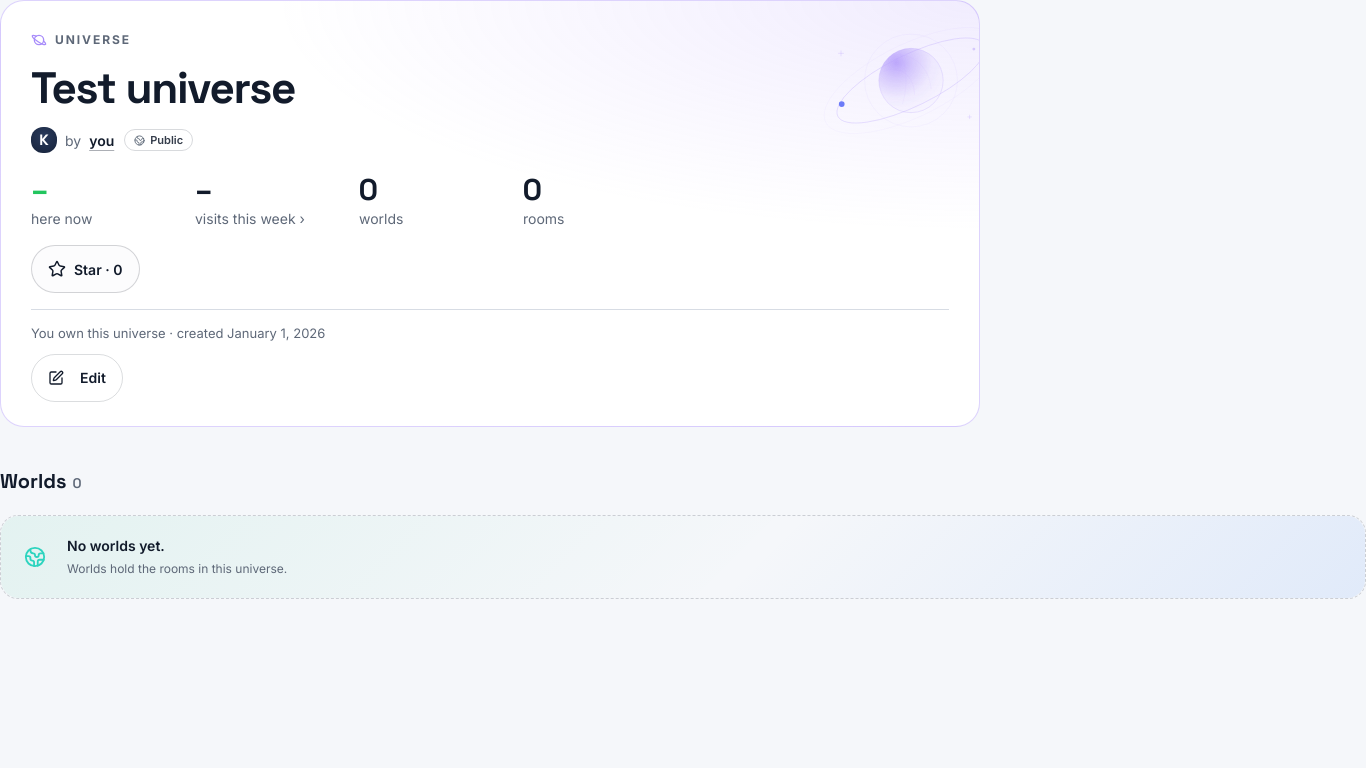
Test: shows the switch off for a universe that exists today, with the mock’s words
Click the button "Edit". click: (77, 378)
box: left=31, top=354, right=123, bottom=402
(page scrolled)
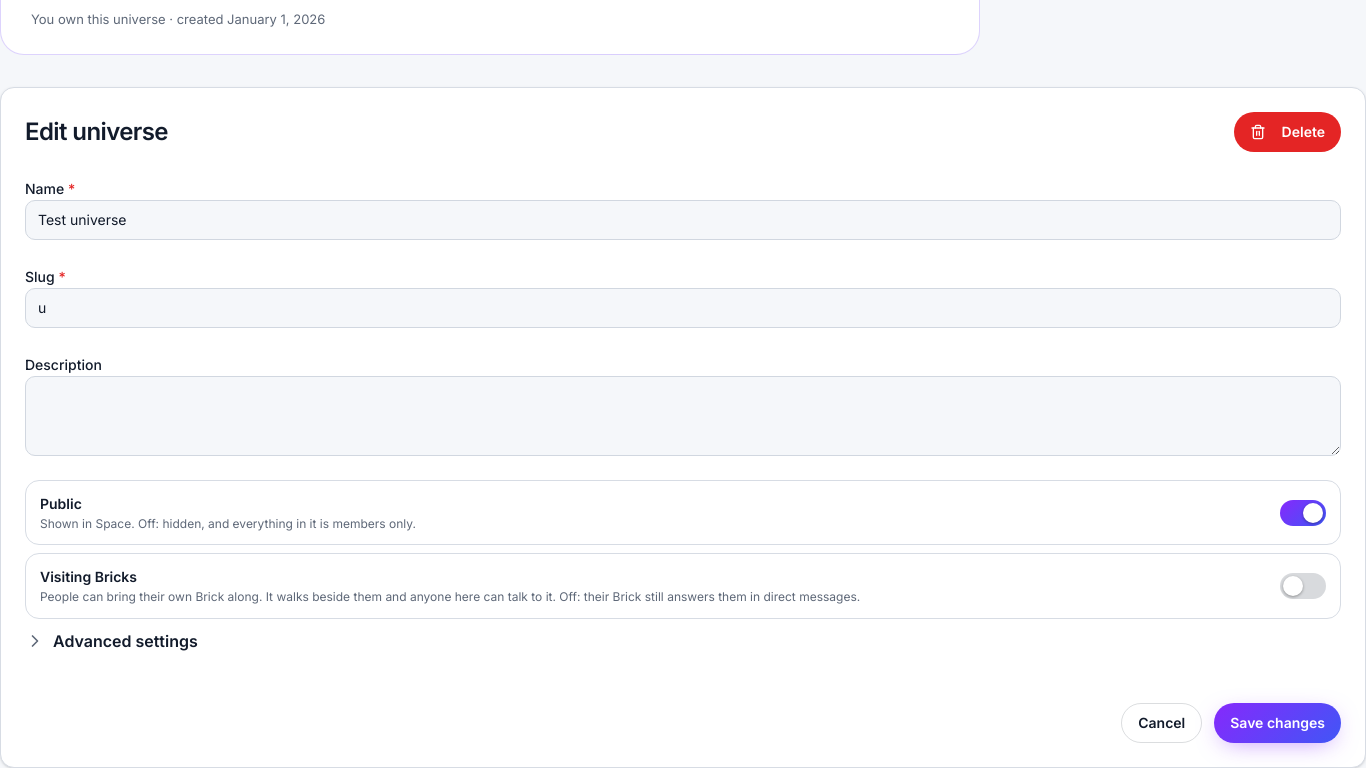
Result: the switch named "Visiting Bricks" in the row of "Visiting Bricks" is not checked at left=1280, top=573, right=1326, bottom=599
Result: the text "People can bring their own Brick along. It walks beside them and anyone here can talk to it. Off: their Brick still answ" is shown at left=40, top=590, right=860, bottom=604
